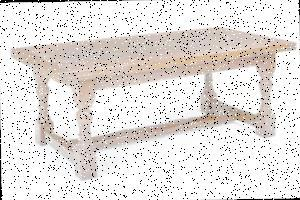Mesa: (11, 24, 298, 180)
